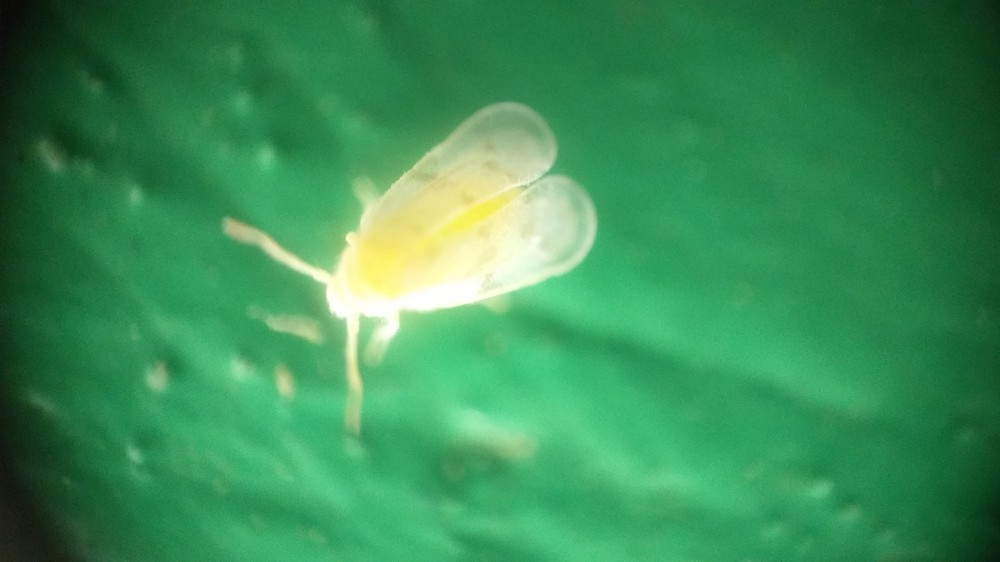Mosca Blanca: (225, 95, 617, 451)
